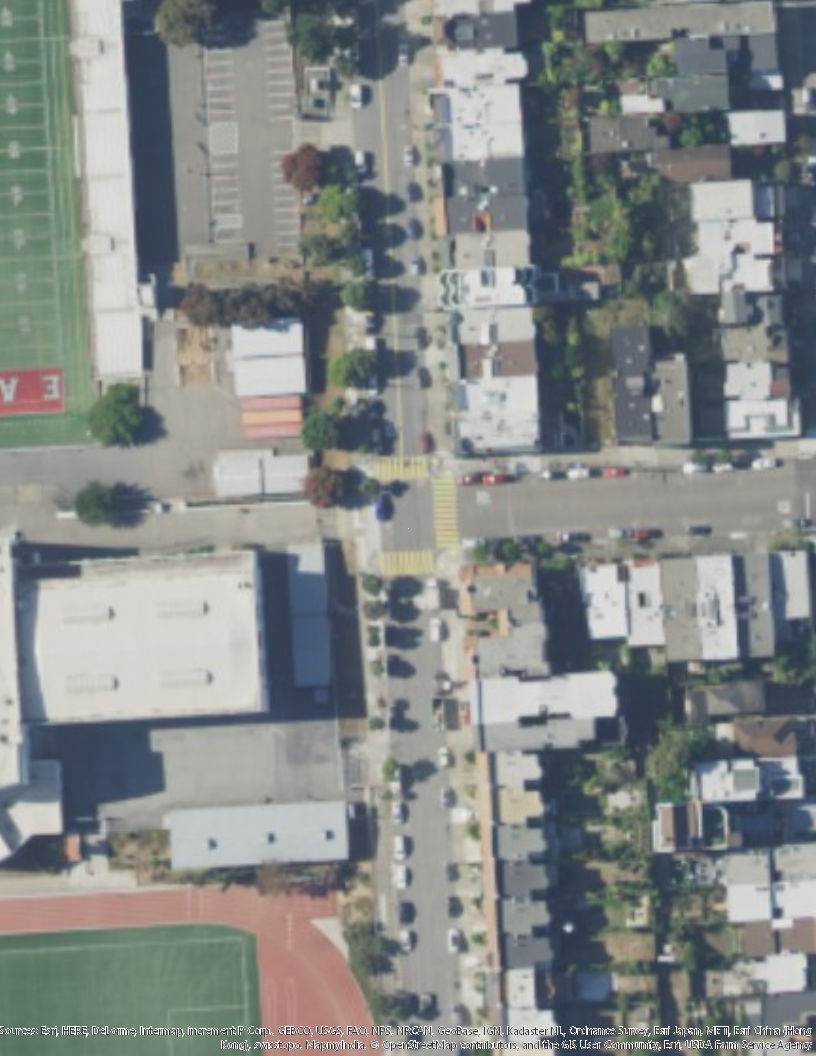zebracross: (431, 475, 460, 551), (363, 454, 436, 480), (380, 549, 437, 574)
